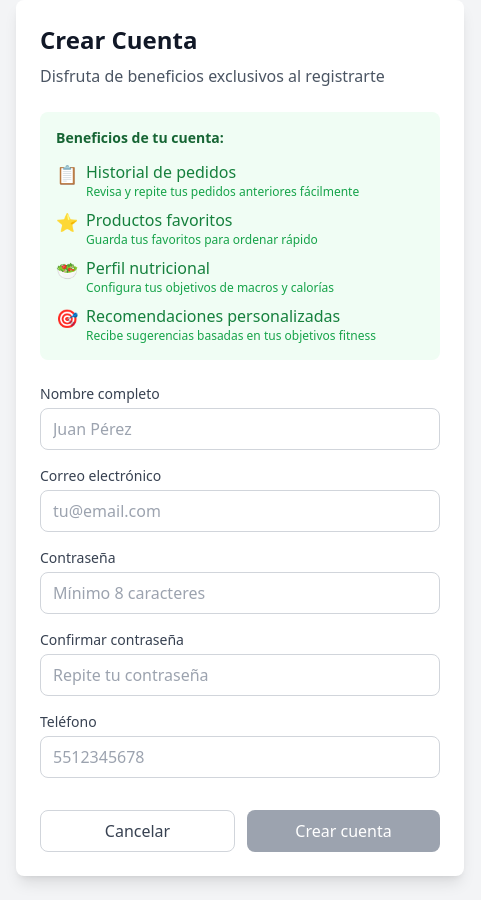
RegistrationForm › Validation › should show error for invalid email
The image size is (481, 900).
In the field named "email": (240, 511) [40, 490, 440, 532], type "invalid-email"
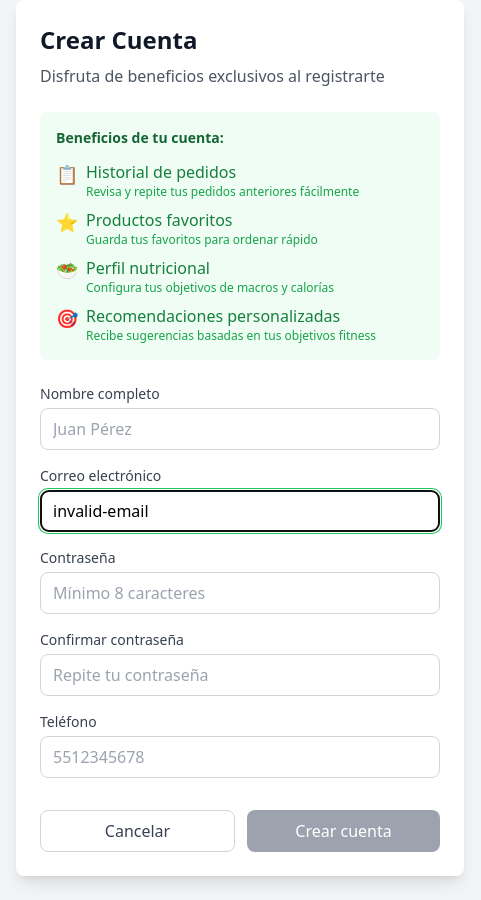
Press Tab
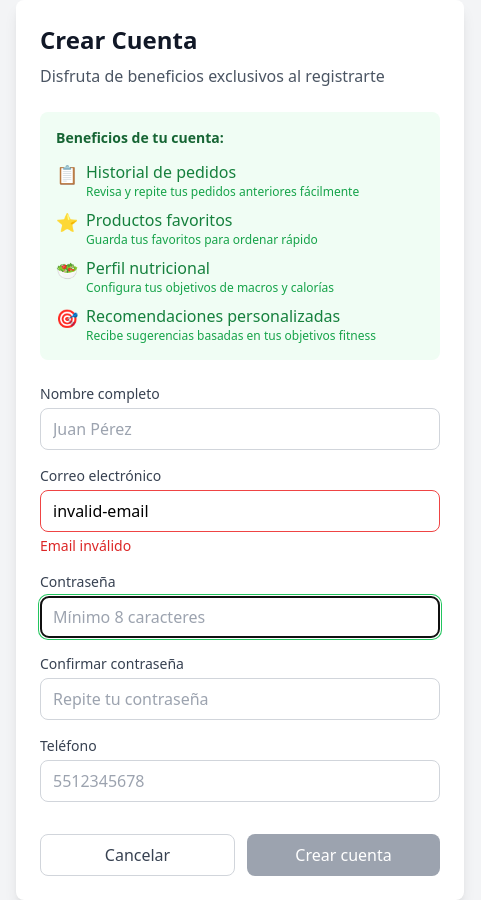
Expected: the text "Email inválido" is shown, [40, 536, 131, 555]
